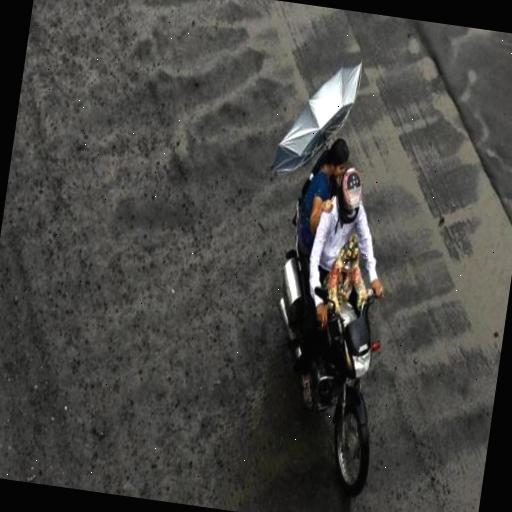helmet: (290, 152, 403, 478)
